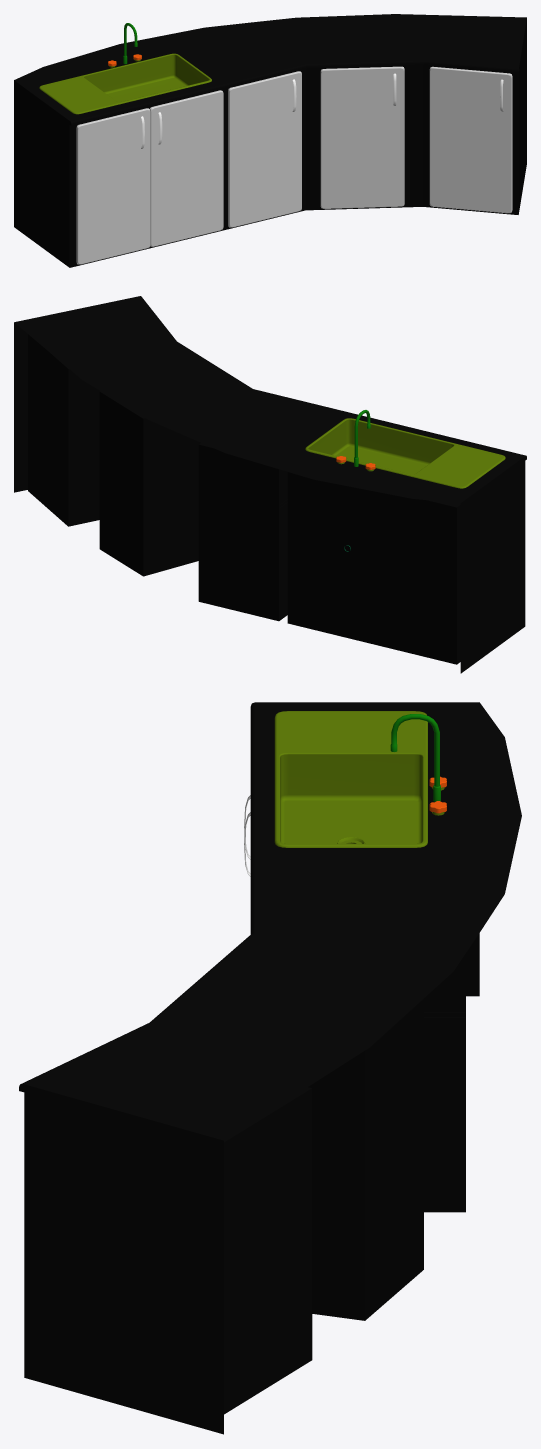
File: SM_Kitchen_Counter_02.fbx
3 renders of one model, top to bottom at view 1: azimuth 30°, elevation 25°; view 2: azimuth 150°, elevation 25°; view 3: azimuth 270°, elevation 25°, orthographic. The views are drawn at different scales.
Visible parts, largest first — view 1: SM_Kitchen_Counter_02, SM_Kitchen_Counter_02_Door_04, SM_Kitchen_Counter_02_Door_05, SM_Kitchen_Counter_02_Door_01, SM_Kitchen_Counter_02_Door_03, SM_Kitchen_Counter_02_Door_02; view 2: SM_Kitchen_Counter_02; view 3: SM_Kitchen_Counter_02.
Part boxes in pixels (x1,y1,x2,y2): SM_Kitchen_Counter_02: (14,14,526,267); SM_Kitchen_Counter_02_Door_04: (320,66,404,208); SM_Kitchen_Counter_02_Door_05: (429,66,512,213); SM_Kitchen_Counter_02_Door_01: (76,108,150,264); SM_Kitchen_Counter_02_Door_03: (228,71,301,227); SM_Kitchen_Counter_02_Door_02: (150,90,223,246); SM_Kitchen_Counter_02: (14,296,526,673); SM_Kitchen_Counter_02: (19,702,521,1434).
Bounding box in the file's own units: 371 × 150 × 180.
